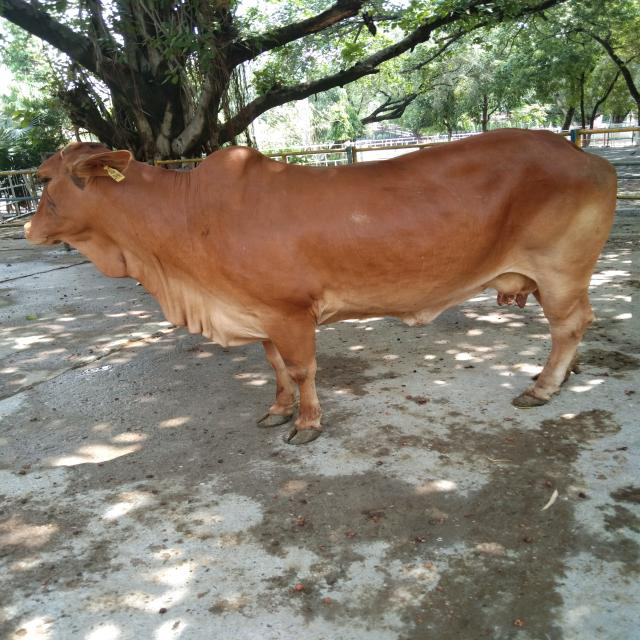1: (184, 142, 297, 172)
Hoof: (283, 424, 323, 445), (511, 391, 549, 408), (255, 411, 292, 428)
